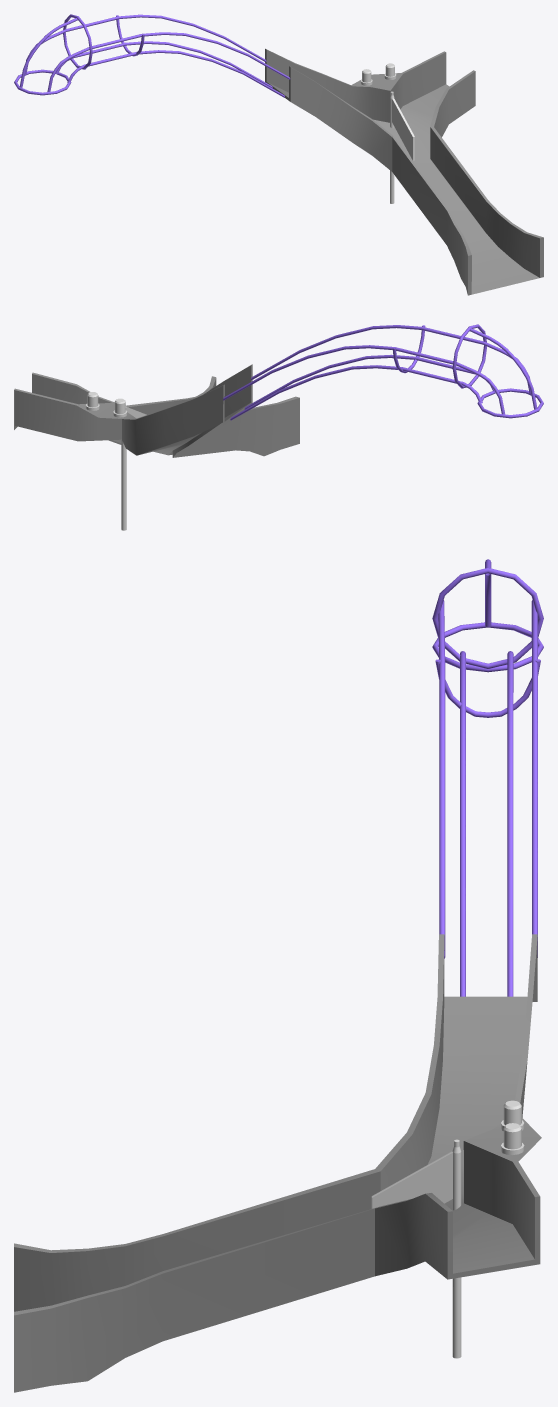
File: Middle Ramp.FBX
3 renders of one model, top to bottom at view 1: azimuth 30°, elevation 25°; view 2: azimuth 150°, elevation 25°; view 3: azimuth 270°, elevation 25°, orthographic. The views are drawn at different scales.
Visible parts, largest first — view 1: Ramp Entrance, Wire Ramp, Redirector; view 2: Ramp Entrance, Wire Ramp, Redirector; view 3: Ramp Entrance, Wire Ramp, Redirector.
Part boxes in pixels (bbox=[...]): Ramp Entrance: bbox=[265, 48, 543, 295]; Wire Ramp: bbox=[14, 14, 290, 97]; Redirector: bbox=[390, 91, 414, 203]; Ramp Entrance: bbox=[14, 364, 299, 457]; Wire Ramp: bbox=[223, 324, 543, 420]; Redirector: bbox=[121, 400, 146, 530]; Ramp Entrance: bbox=[14, 934, 541, 1392]; Wire Ramp: bbox=[432, 559, 543, 996]; Redirector: bbox=[371, 1139, 461, 1358].
Bounding box in the file's own units: 0.3421 × 0.187 × 0.1804.
